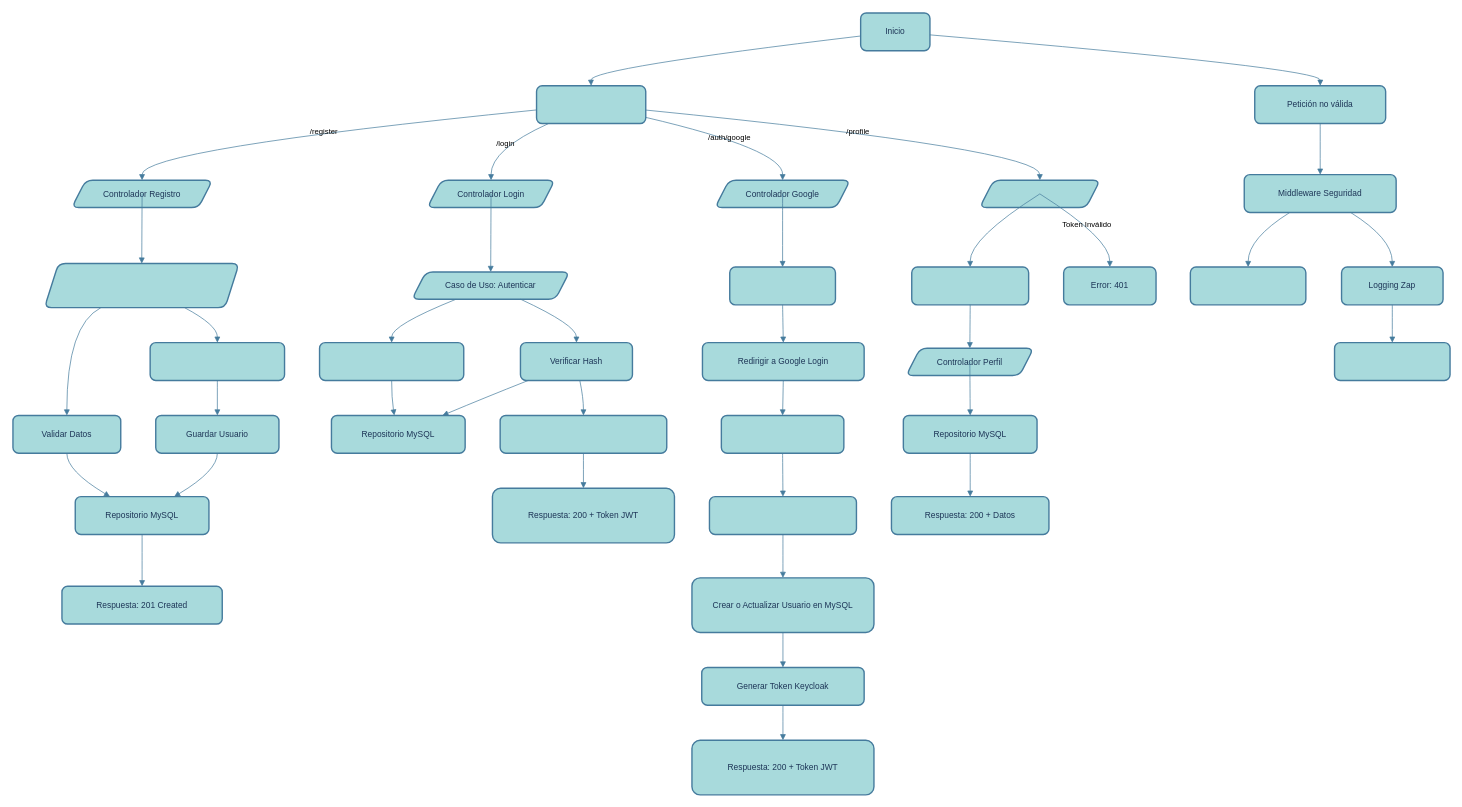
Some shapes in this 1462 by 807 pixel diagram are drawn without their labels. Here are the shapes that lost their labels. From the top down, the centre of each, then its label:
At pixel 591 104: "PeticionHTTP".
At pixel 1039 193: "Middleware JWT".
At pixel 141 285: "Caso de Uso: Registrar Usuario".
At pixel 782 285: "OAuth2 Flow".
At pixel 970 285: "Verificar Token".
At pixel 1247 285: "Error: 403/404".
At pixel 217 361: "Generar Salt/Hash".
At pixel 391 361: "Validar Credenciales".
At pixel 1392 361: "Monitorización".
At pixel 583 434: "Keycloak: Generar Token".
At pixel 782 434: "Callback Google".
At pixel 782 515: "Validar Token Google".
